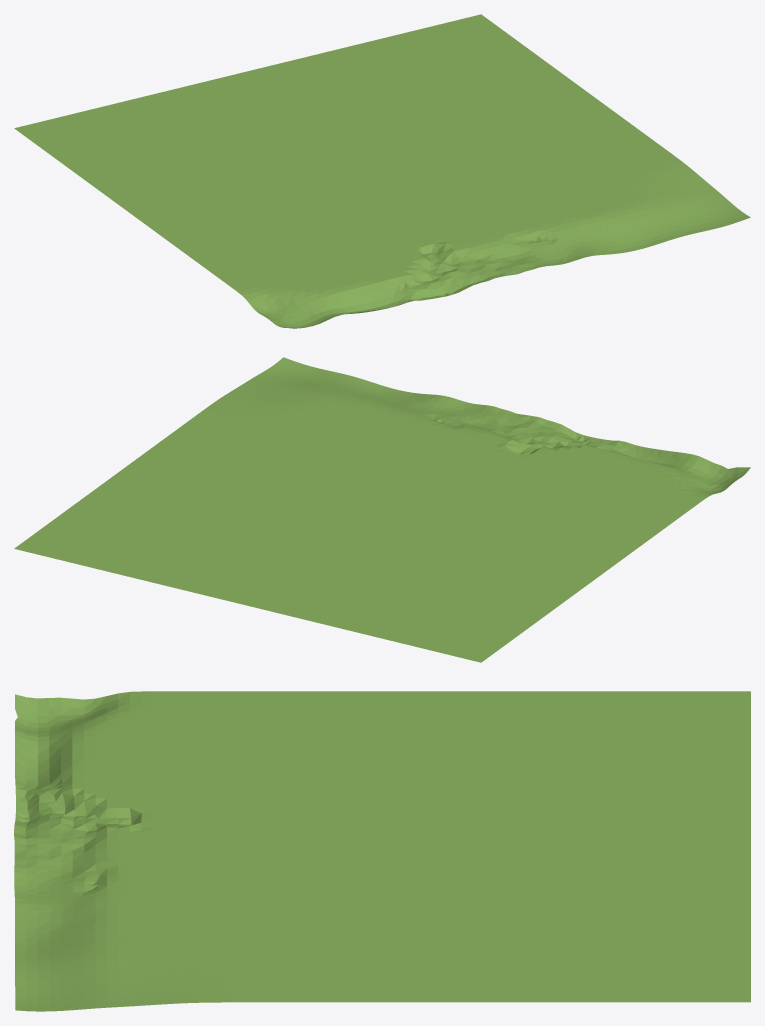
Rendered from LakeGroundDemo.fbx.
The picture shows the model from 3 angles, top to bottom: view 1: azimuth 30°, elevation 25°; view 2: azimuth 150°, elevation 25°; view 3: azimuth 270°, elevation 25°; orthographic projection. The views are drawn at different scales.
Parts seen in each view (by area): view 1: LakeGroundDemo; view 2: LakeGroundDemo; view 3: LakeGroundDemo.
Boxes of the visible parts, x1,y1,x2,y2 form: LakeGroundDemo: (14, 14, 750, 328); LakeGroundDemo: (14, 357, 750, 662); LakeGroundDemo: (14, 691, 750, 1011).
Size of the model in its own units: 12046 by 351 by 12058.
